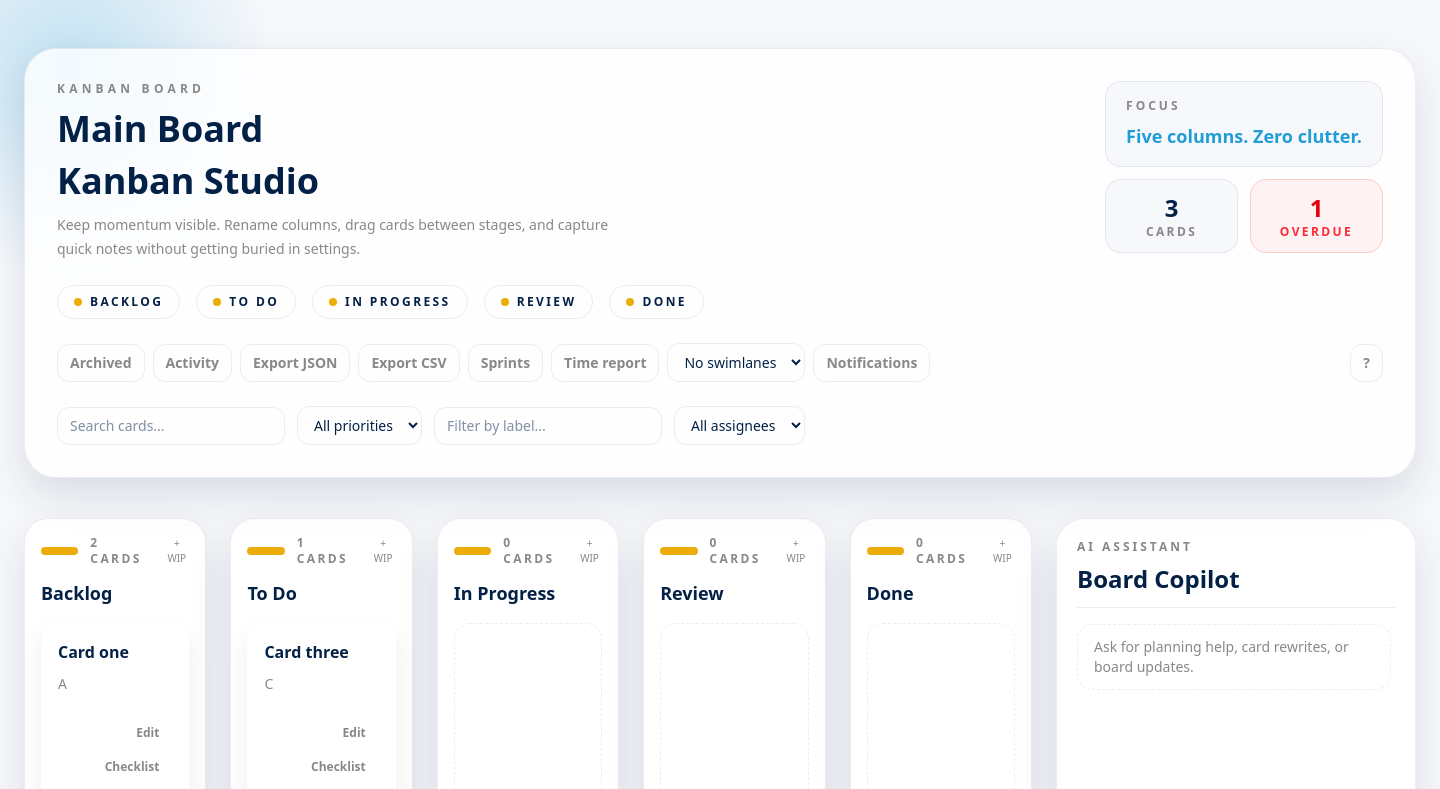
Test: KanbanBoard › reverts column title on Escape key
Replace the text in the 1st field named "Column title" with "Temporary": (115, 593) [41,579,189,607]
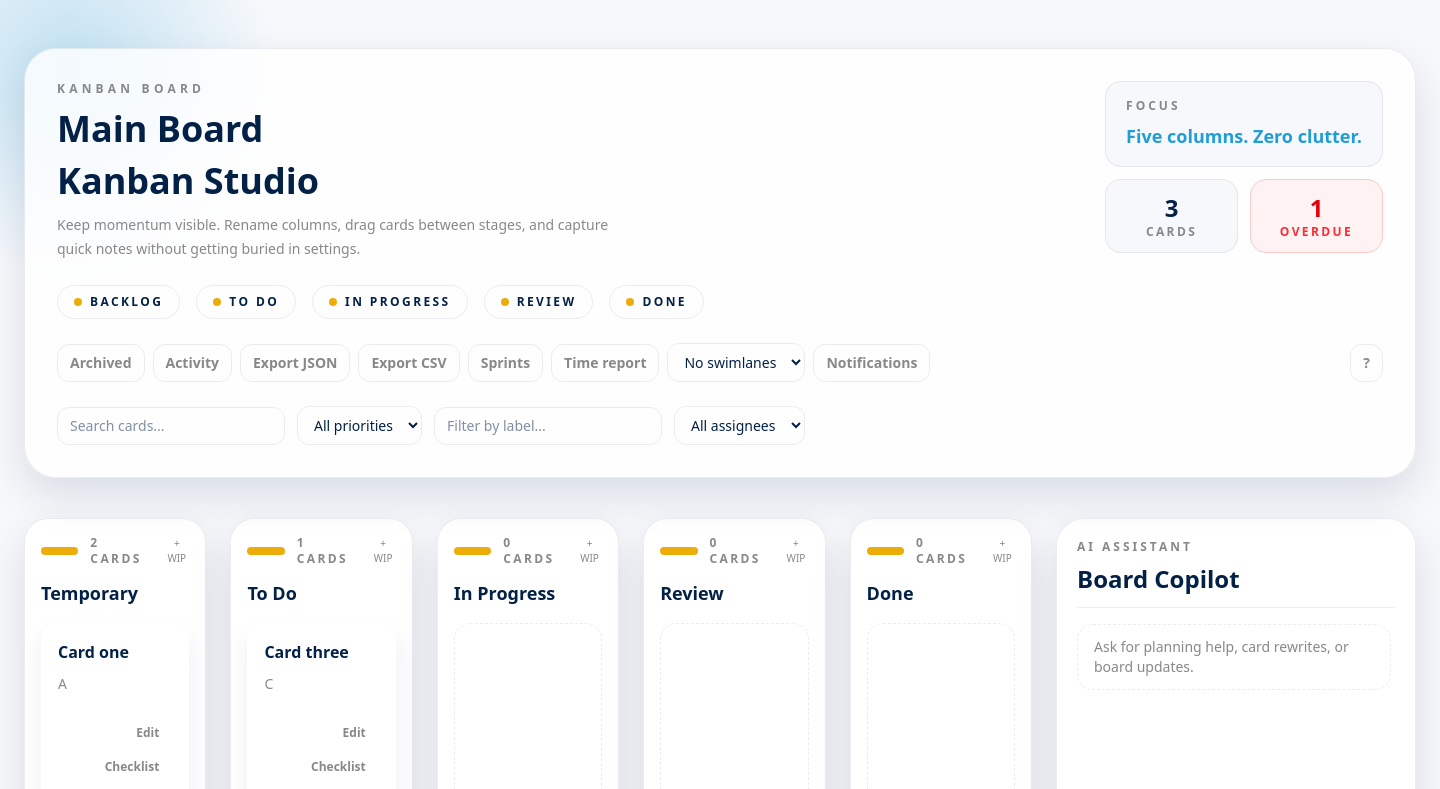
Press Escape
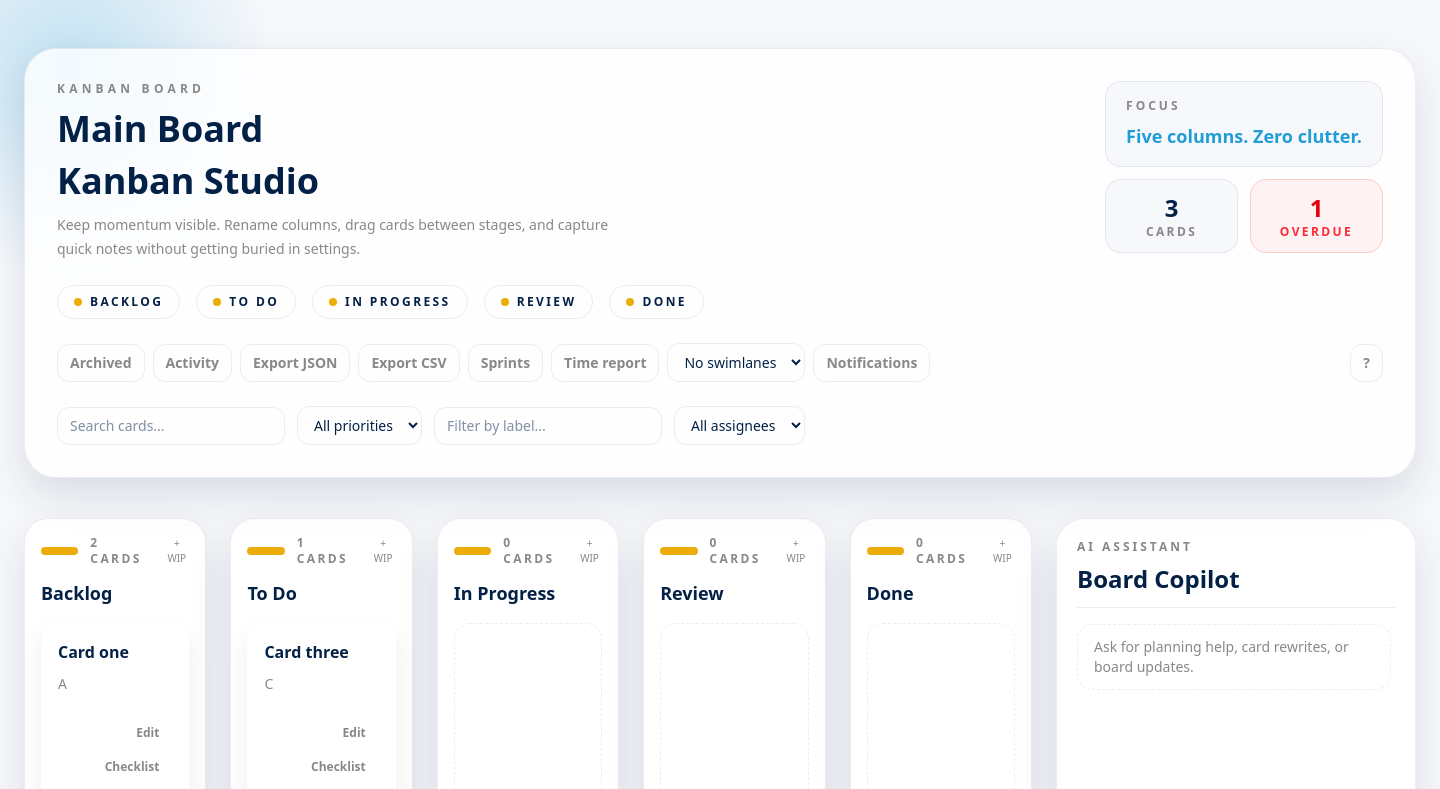
Expected: the 1st field named "Column title" holds "Backlog", [41,579,189,607]
